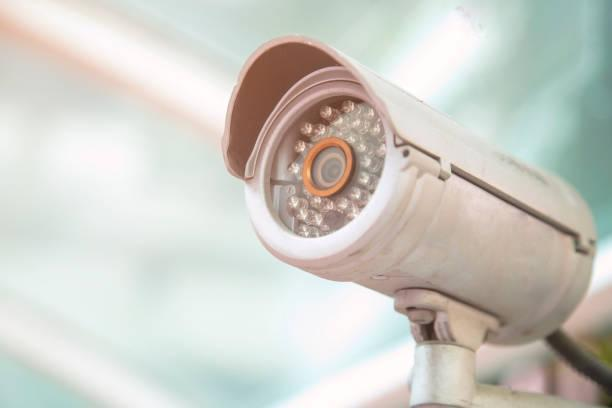camera: (163, 25, 609, 347)
